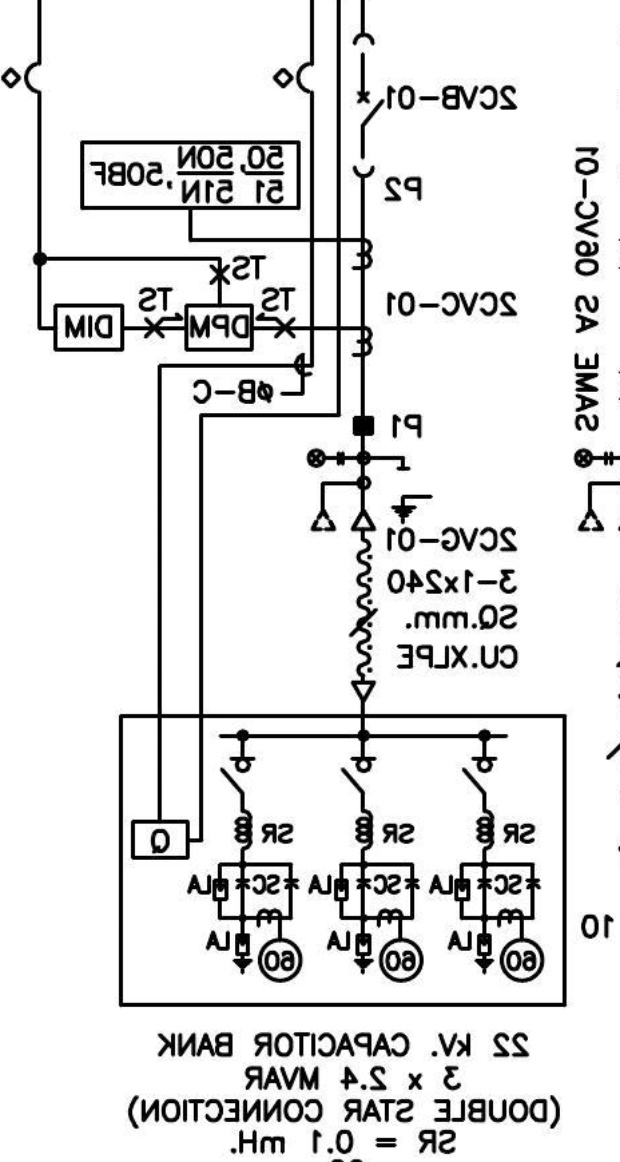22_breaker: (351, 31, 386, 180)
22_cap_bank: (118, 713, 568, 1008)
22_gs: (389, 466, 434, 526)
22_ll: (305, 446, 347, 469), (573, 447, 614, 469)
DIM: (53, 301, 125, 353)
DPM: (183, 302, 255, 353)
Q: (130, 819, 191, 861)
terminator_single: (351, 679, 378, 703)
terminator_w_future: (309, 480, 378, 532)
